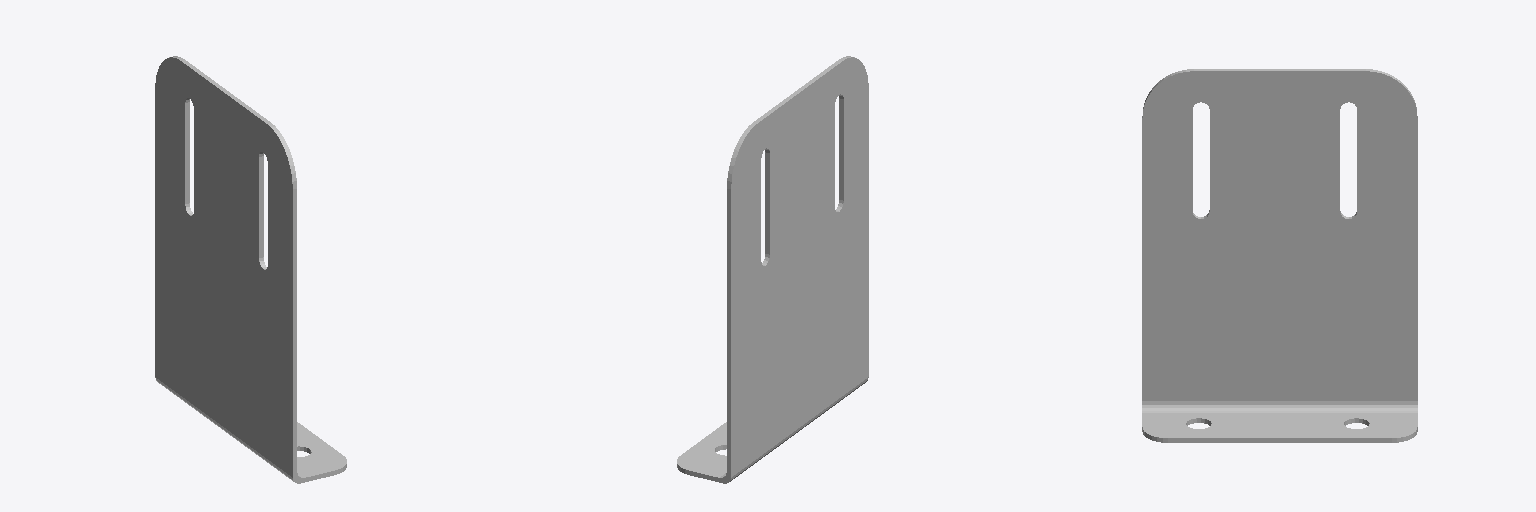
Rendered from wspornik.obj.
3 views of the same model, side by side, from view 1: azimuth 30°, elevation 25°; view 2: azimuth 150°, elevation 25°; view 3: azimuth 270°, elevation 25° (orthographic).
Visible parts, largest first — view 1: Bryła66; view 2: Bryła66; view 3: Bryła66.
Boxes of the visible parts, x1,y1,x2,y2 form: Bryła66: [155, 56, 346, 483]; Bryła66: [677, 56, 868, 483]; Bryła66: [1142, 69, 1417, 442].
Size of the model in its own units: 43 by 220 by 160.